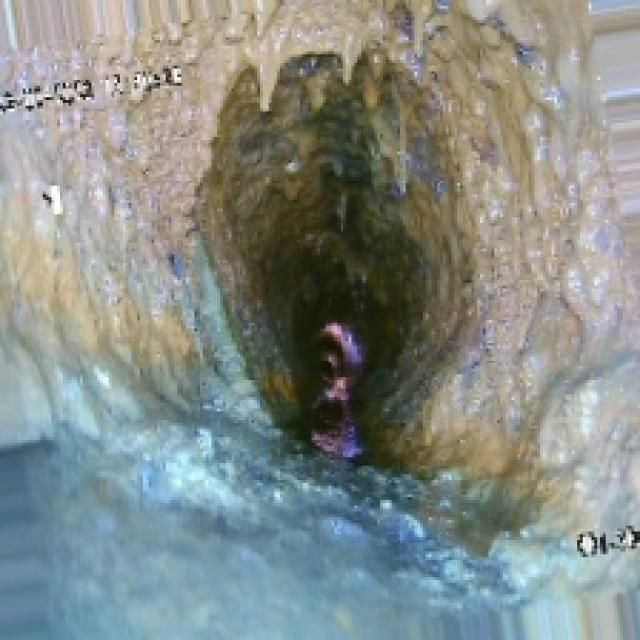encrustation: (194, 3, 597, 471)
